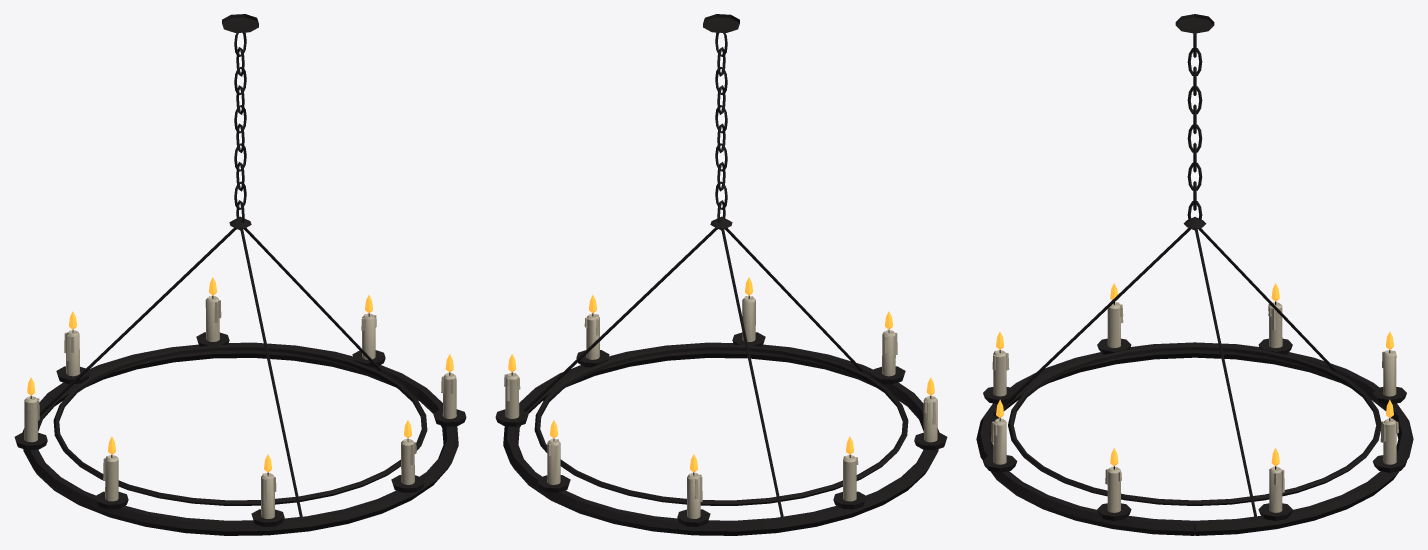
The model's file is kronleuchter.glb.
The picture shows the model from 3 angles, left to right: view 1: azimuth 30°, elevation 25°; view 2: azimuth 150°, elevation 25°; view 3: azimuth 270°, elevation 25°; orthographic projection.
Parts seen in each view (by area): view 1: kronleuchter; view 2: kronleuchter; view 3: kronleuchter.
Part boxes in pixels (box(x1,y1,x2,y2)): kronleuchter: box(14, 14, 466, 535); kronleuchter: box(495, 14, 947, 535); kronleuchter: box(976, 14, 1413, 535).
Size of the model in its own units: 1.14 by 1.22 by 1.14.
